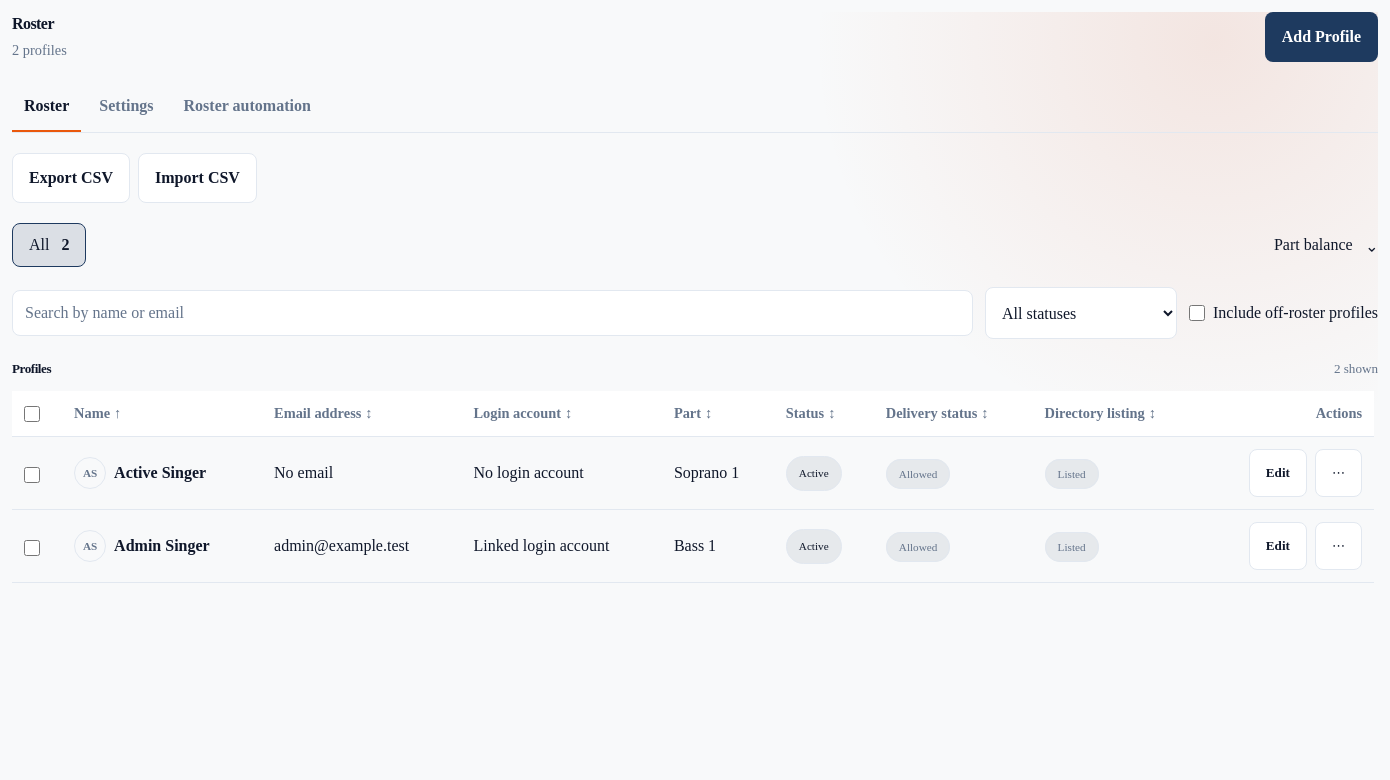
Test: RosterPage Safe Profile Removal (#169) › shows Restore button for archived/hidden profiles and restores them
// Include off-roster profiles checkbox
Click the checkbox labelled "Include off-roster profiles" at {"x": 1197, "y": 313}, box [1189,305,1205,321]
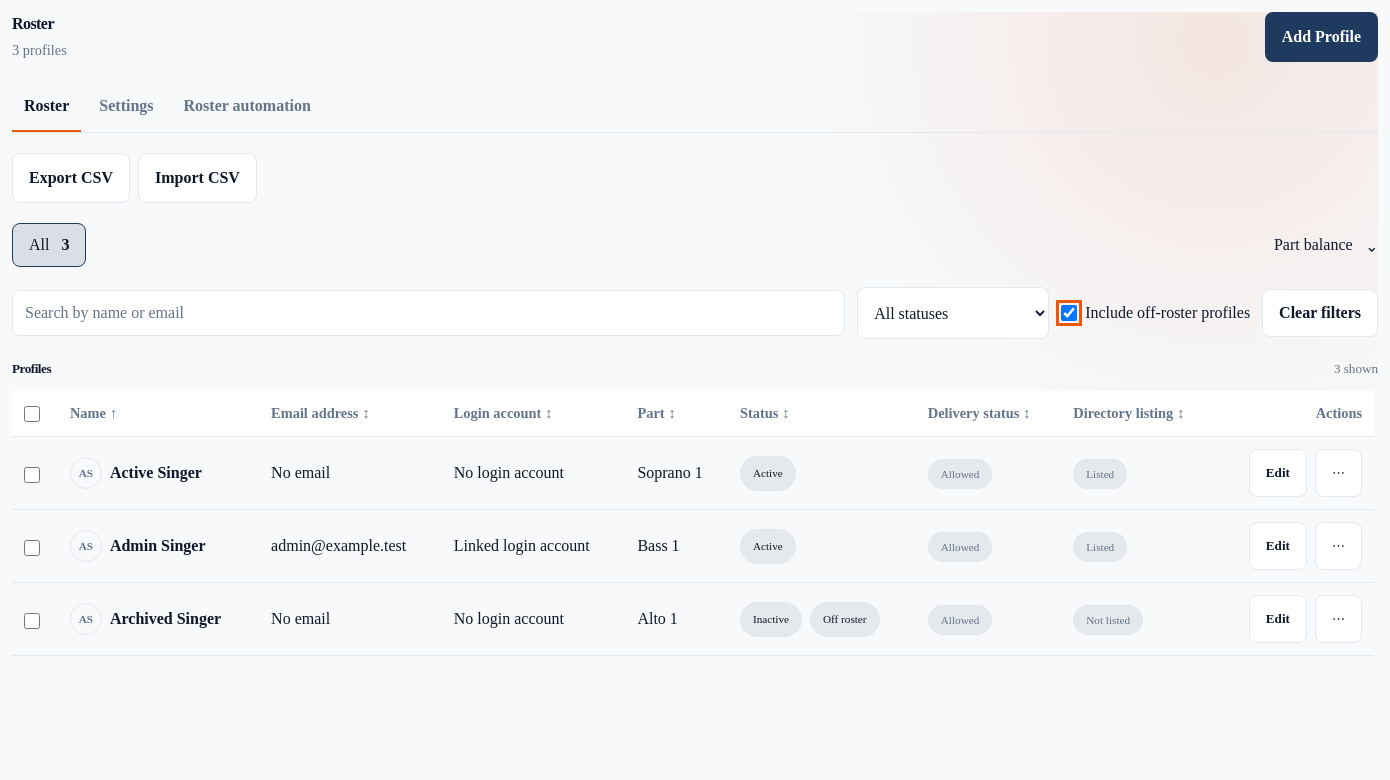
Click the button named "More actions for Archived Singer" at {"x": 1338, "y": 619}, box [1315,595,1362,643]
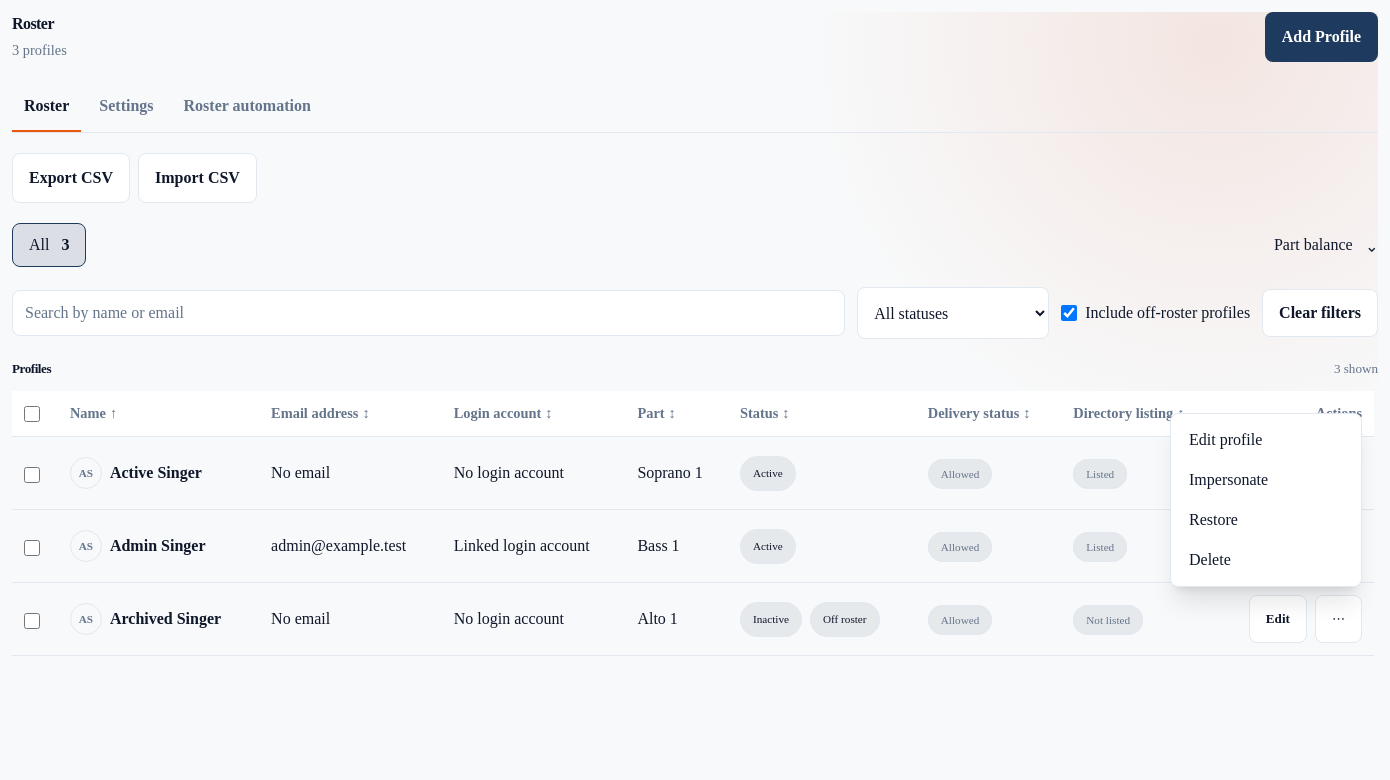
Result: the menu item "Restore" is shown
Click the menu item "Restore" at {"x": 1266, "y": 520}, box [1177,500,1355,540]
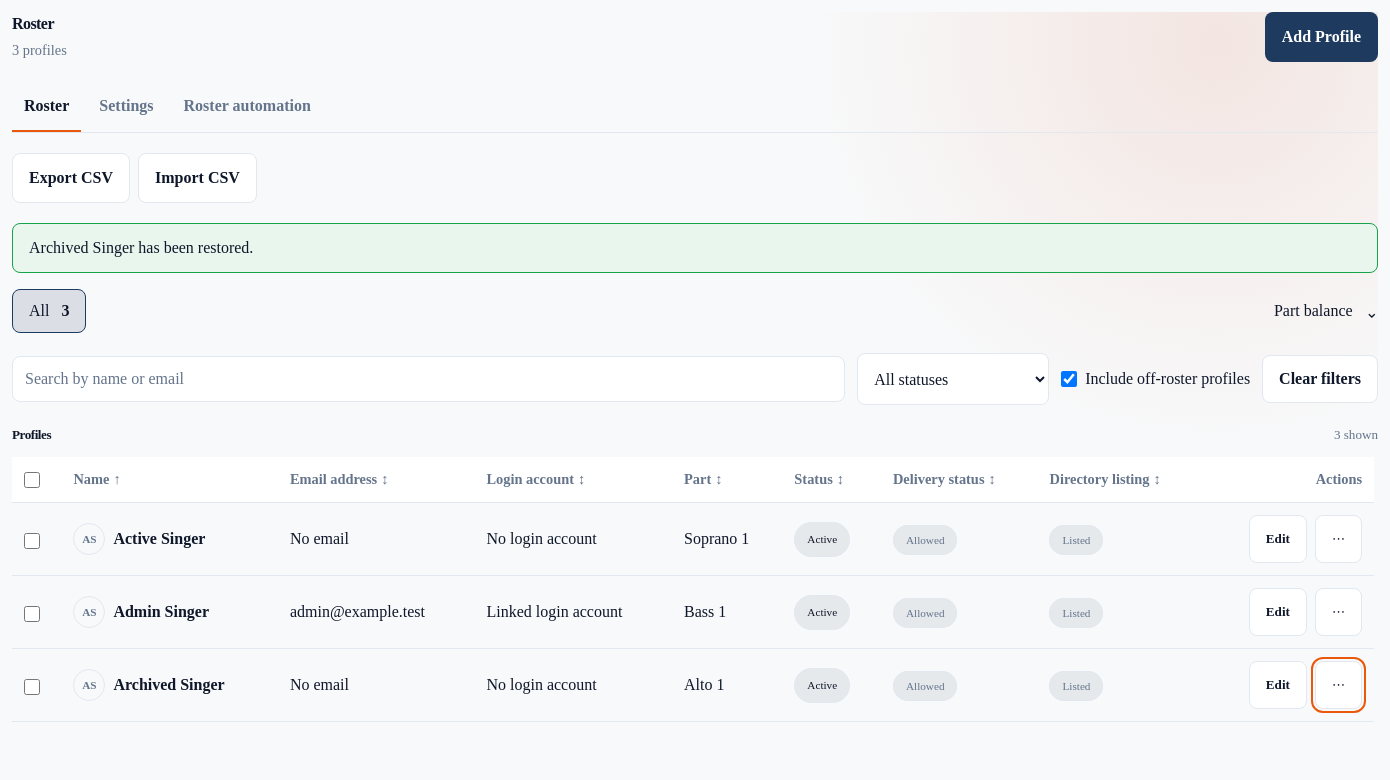
Result: the text "Archived Singer has been restored." is shown at [12,223,1378,273]
